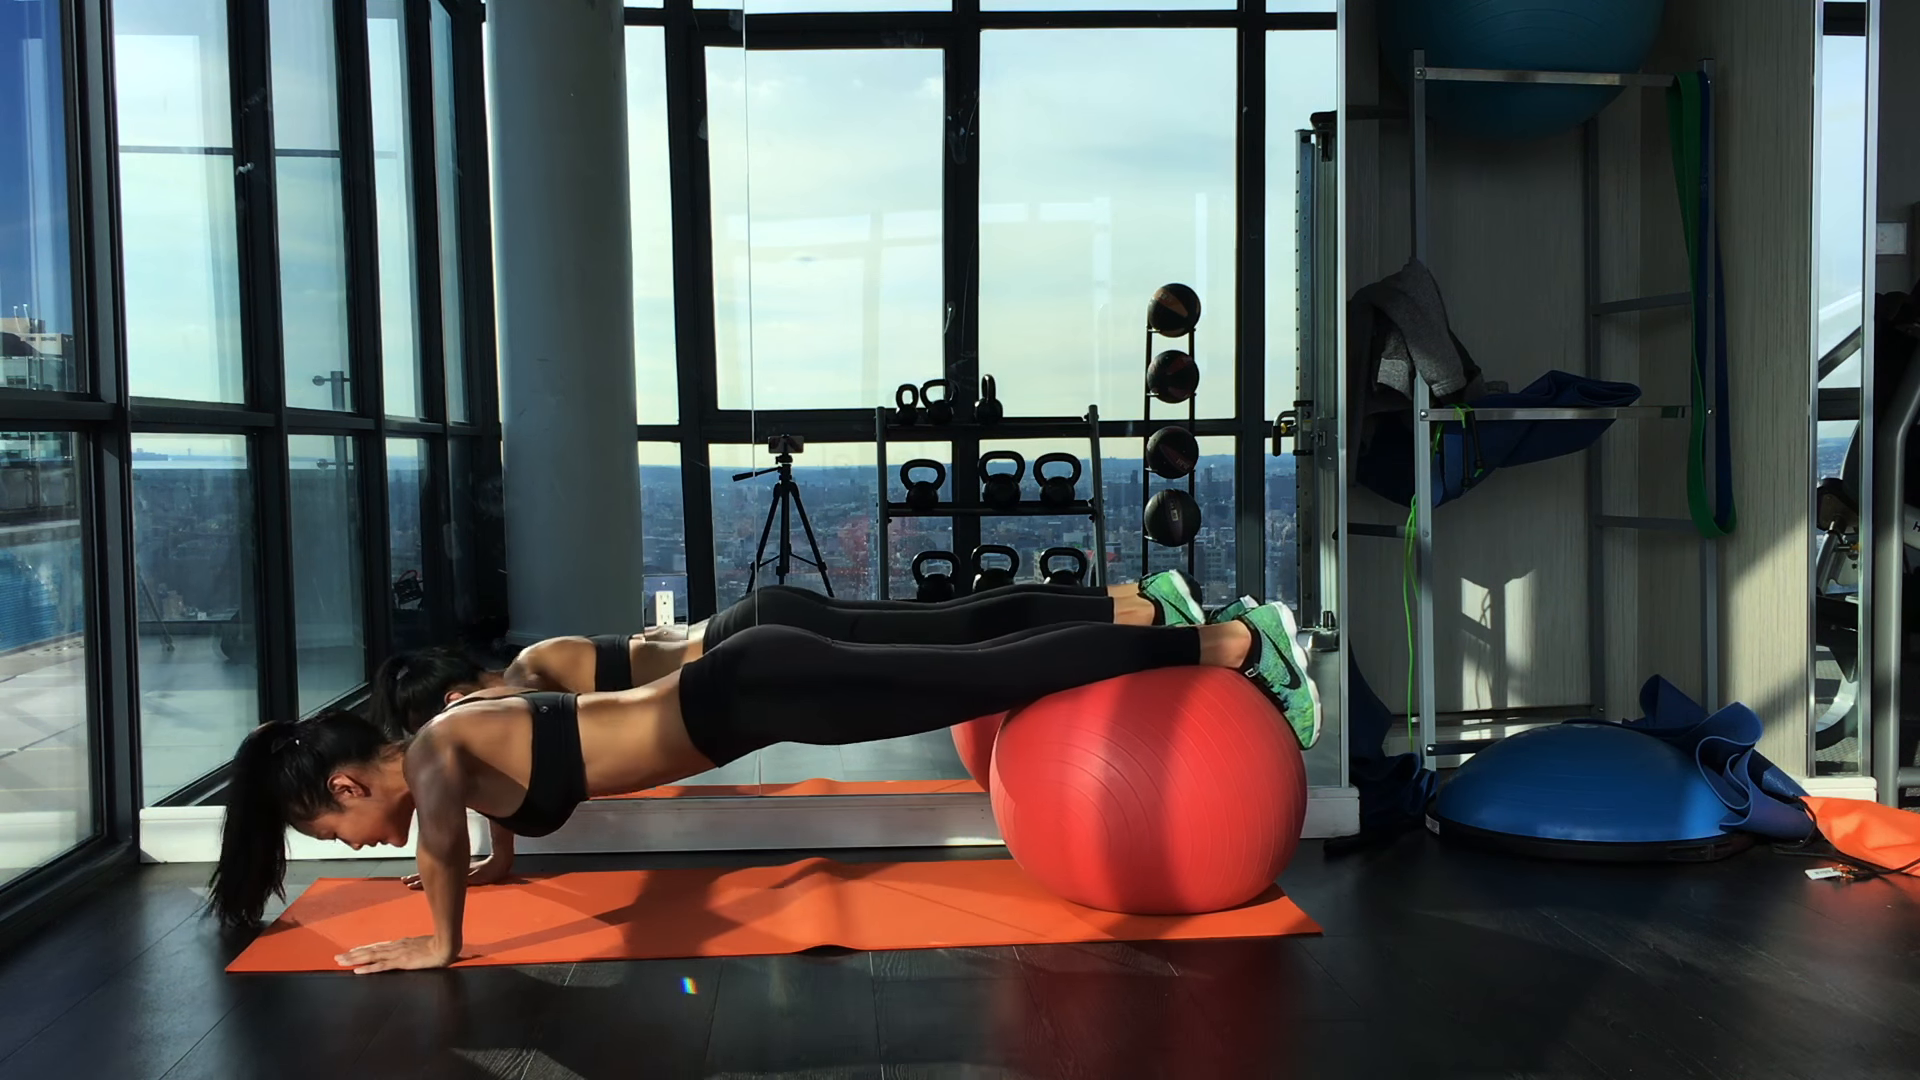yogaball: (973, 665, 1338, 919)
